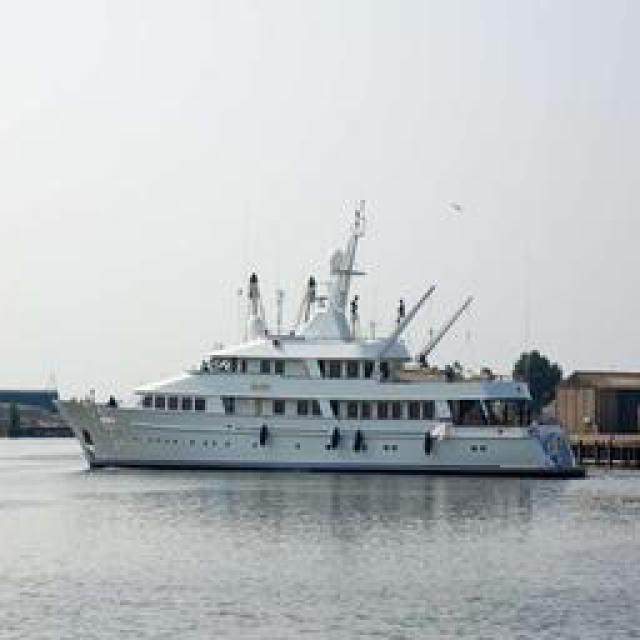Ship: (56, 207, 589, 475)
